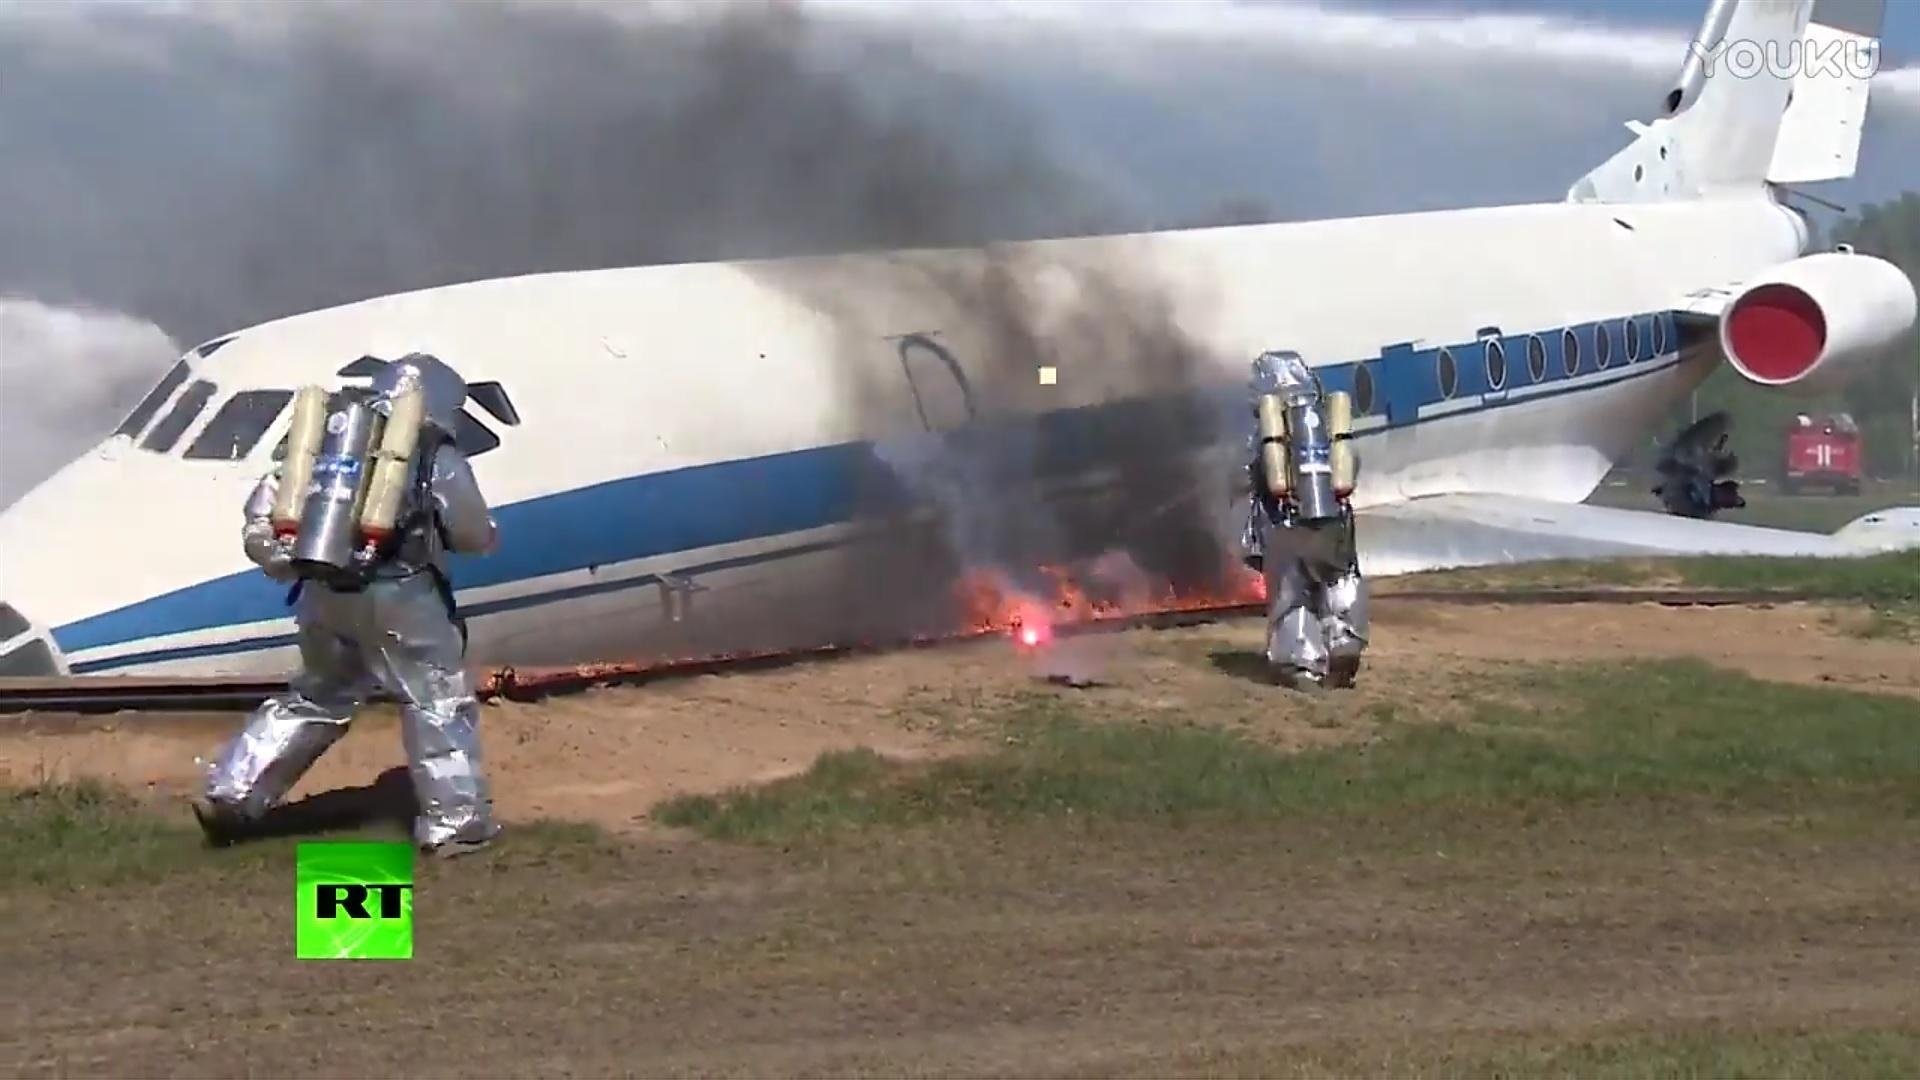fire: (952, 553, 1273, 644)
